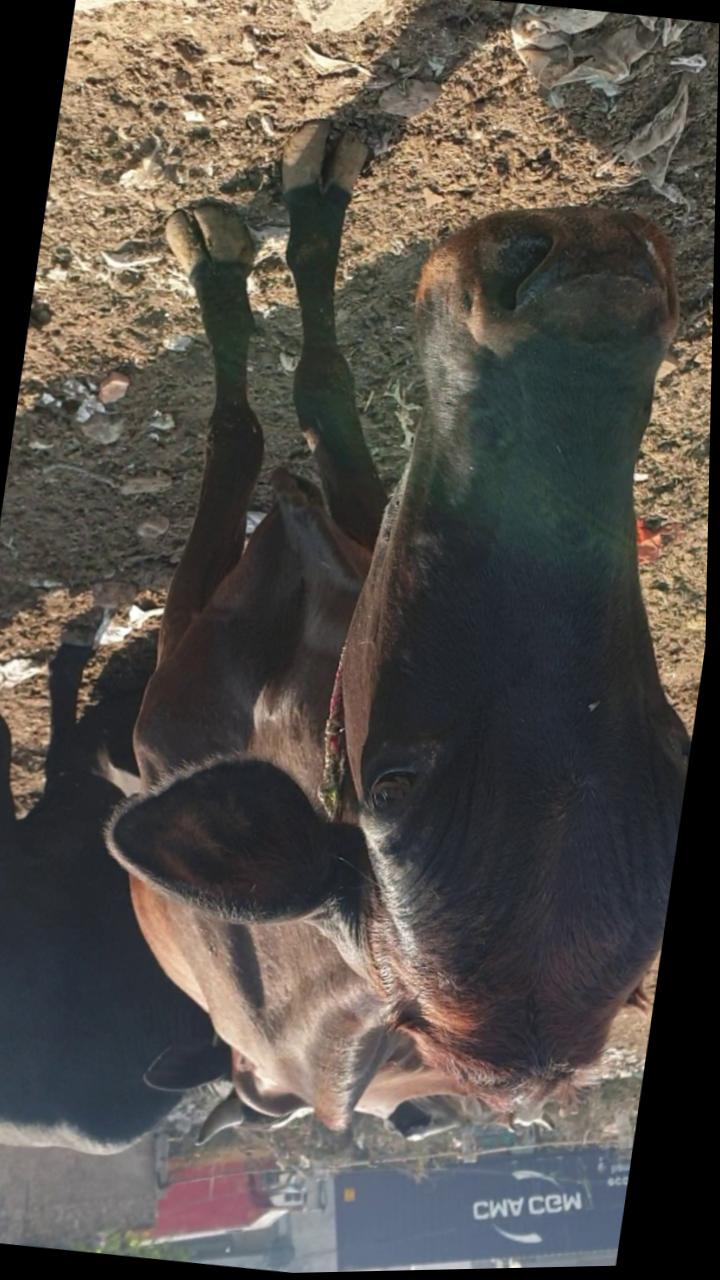cows: (278, 184, 717, 1094)
